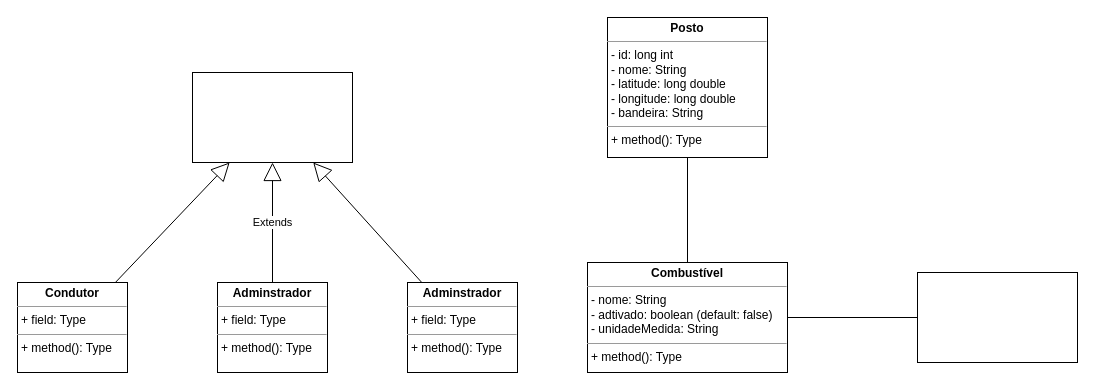
This 1095x390 diagram has some shape labels left out. Here are the shapes that lost their labels. From the top down, the box of each, then its label:
(192, 72, 352, 162): Usuário - nome: String + method(): Type
(916, 272, 1078, 362): Preço - preço: double - data: localDateTime + method(): Type
